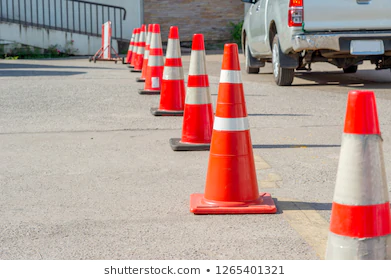cone: (189, 42, 280, 215), (324, 90, 389, 259), (169, 34, 230, 151), (151, 25, 198, 115), (139, 24, 172, 95), (137, 23, 164, 82), (132, 24, 153, 71), (128, 28, 146, 68)
